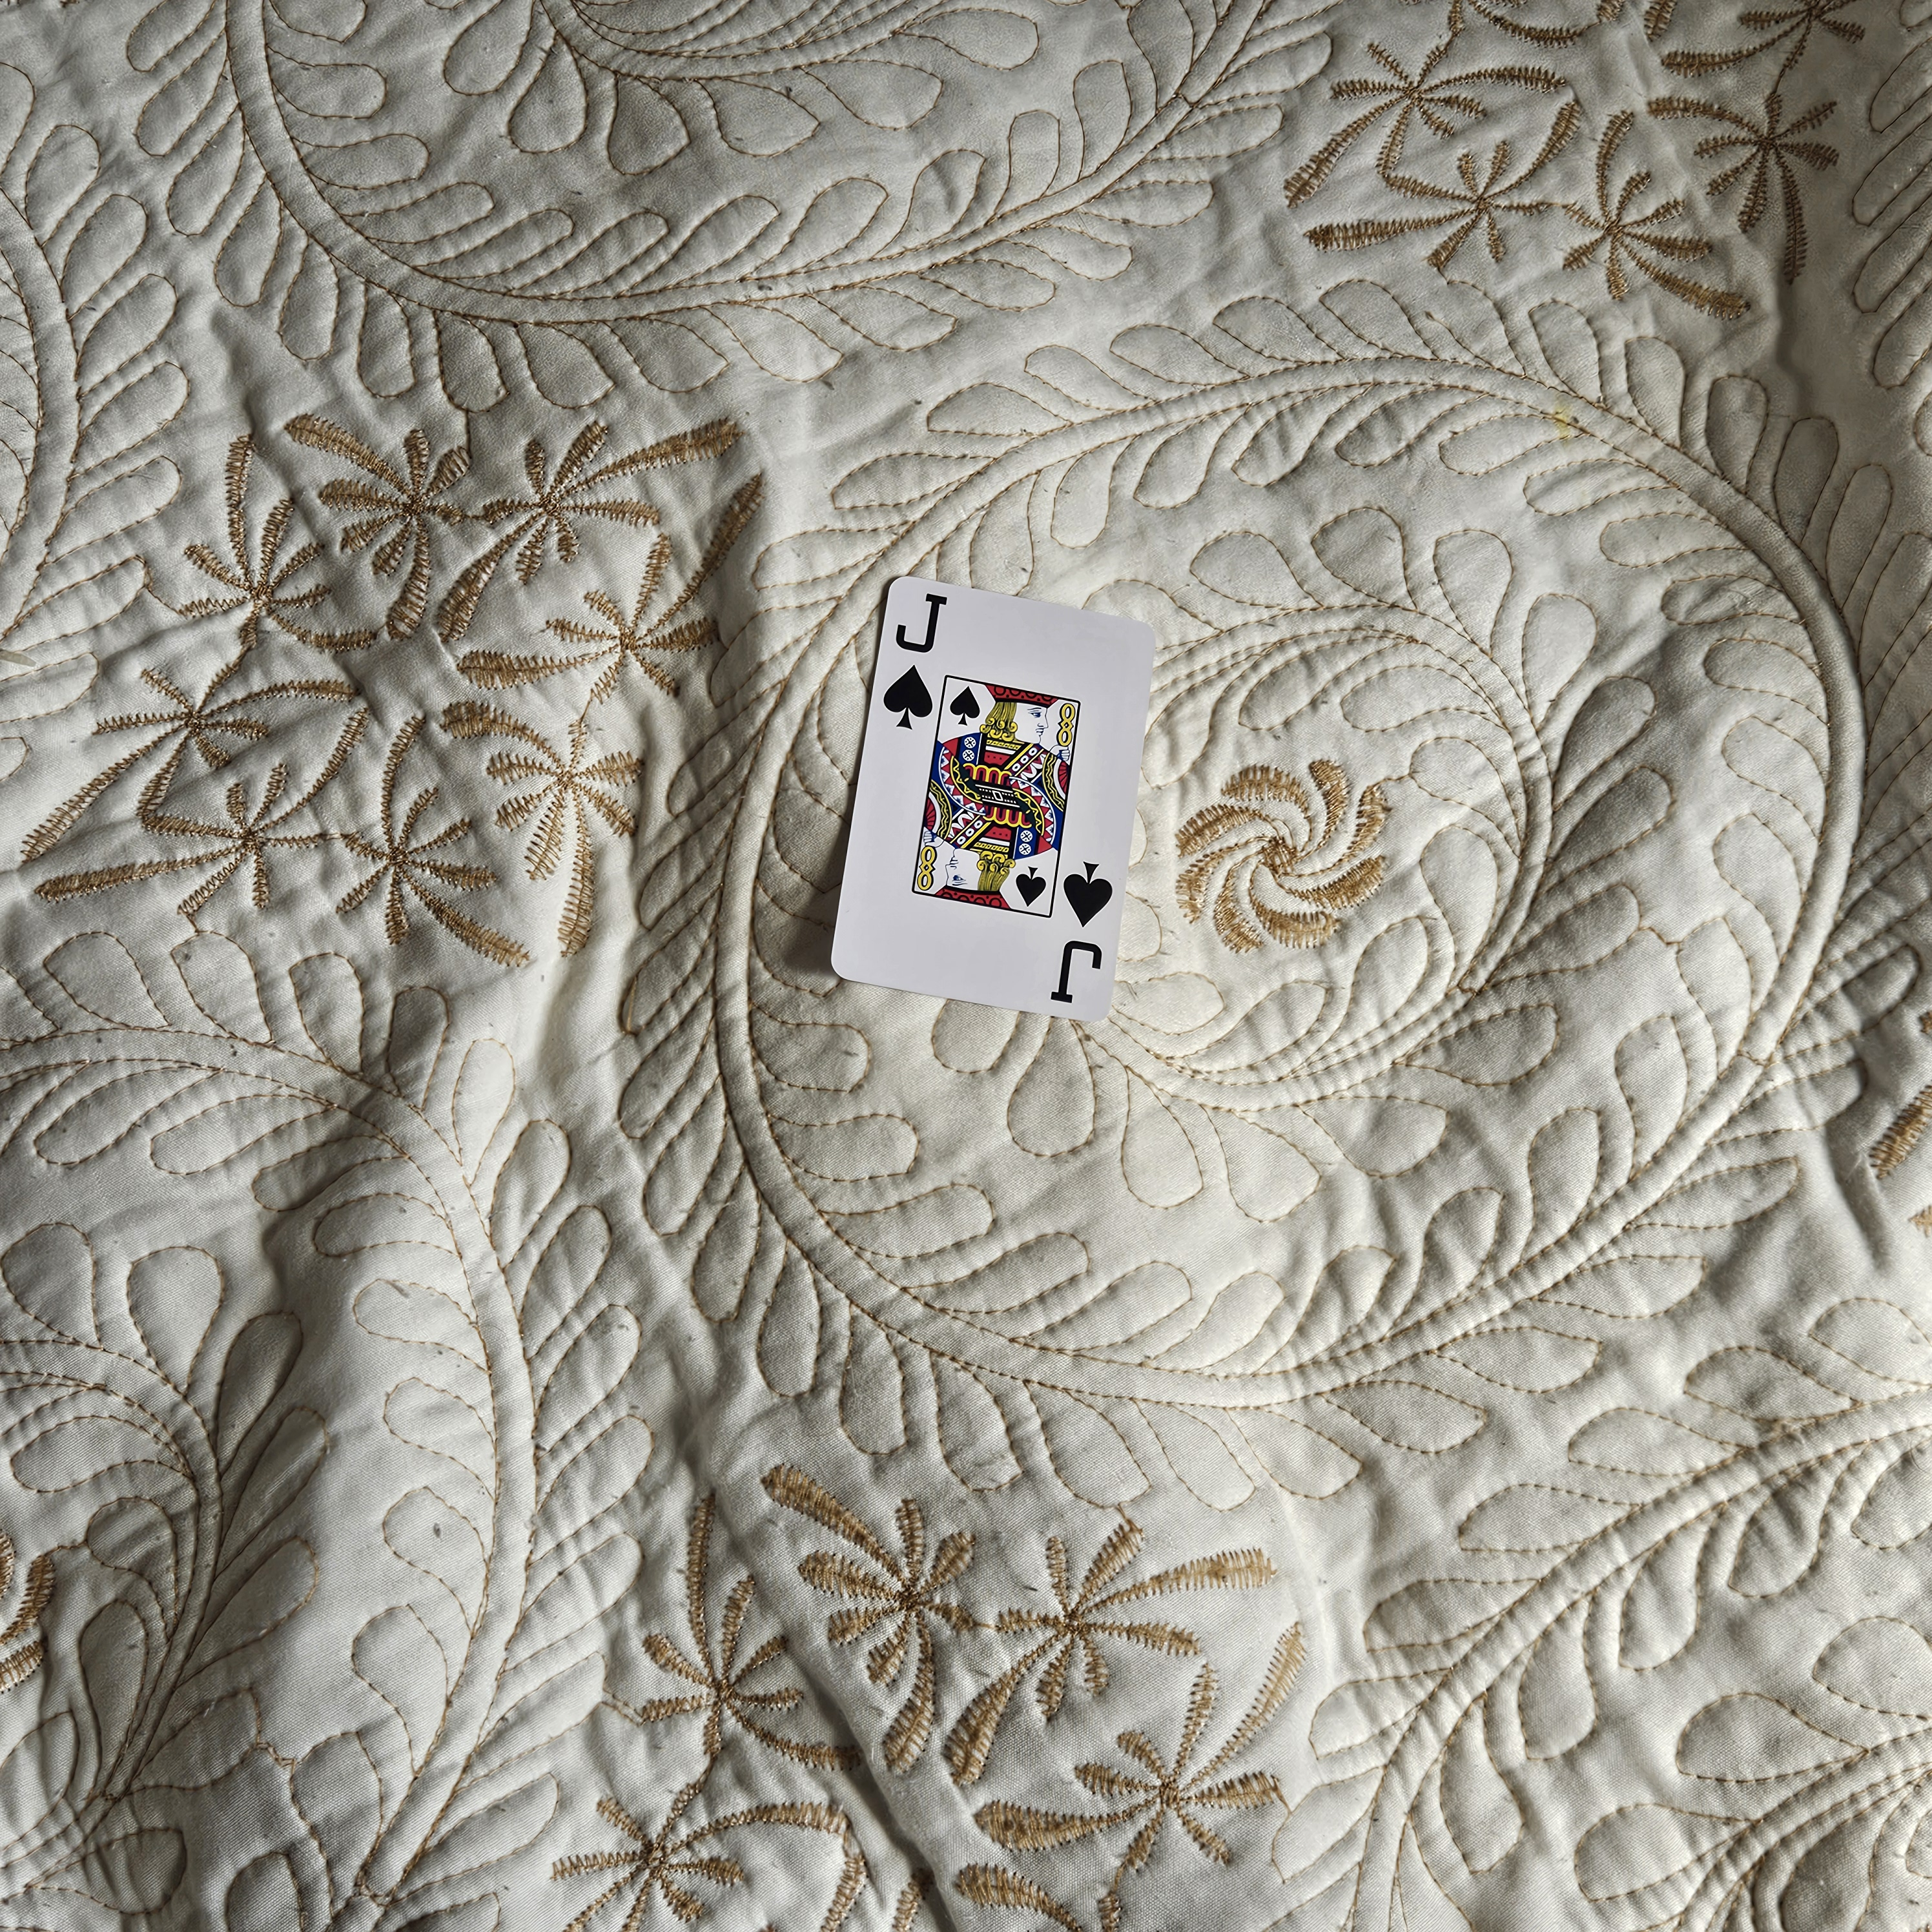JE: (1040, 855, 1120, 1016), (872, 582, 952, 738)
